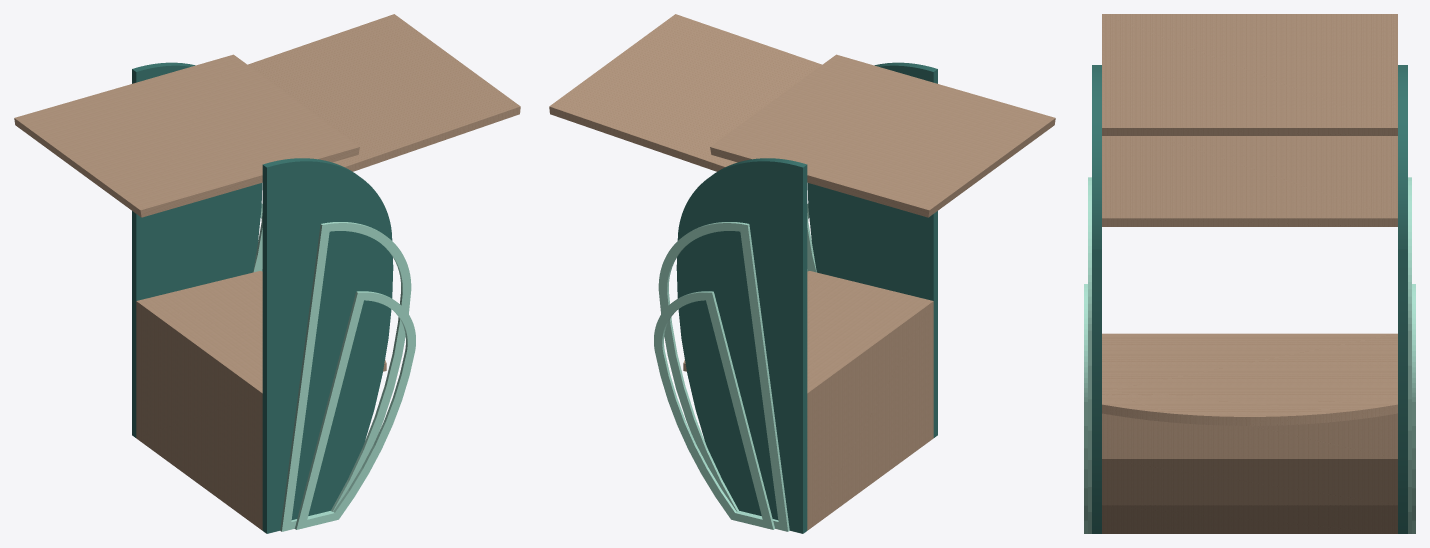
The model's file is kiosk1.glb.
The picture shows the model from 3 angles, left to right: view 1: azimuth 30°, elevation 25°; view 2: azimuth 150°, elevation 25°; view 3: azimuth 270°, elevation 25°; orthographic projection. The views are drawn at different scales.
Parts seen in each view (by area): view 1: kıosk, kıosk.003, kıosk.002; view 2: kıosk, kıosk.003, kıosk.002; view 3: kıosk, kıosk.003, kıosk.002.
Boxes of the visible parts, bbox=[...] form: kıosk: bbox=[14, 14, 520, 530]; kıosk.003: bbox=[132, 62, 393, 533]; kıosk.002: bbox=[253, 203, 415, 531]; kıosk: bbox=[549, 14, 1055, 530]; kıosk.003: bbox=[676, 62, 937, 533]; kıosk.002: bbox=[654, 203, 816, 531]; kıosk: bbox=[1102, 14, 1397, 533]; kıosk.003: bbox=[1092, 65, 1407, 533]; kıosk.002: bbox=[1084, 177, 1415, 533].
Bounding box in the file's own units: 4.29 × 3.95 × 2.76.
3 materials, 1 textured.
